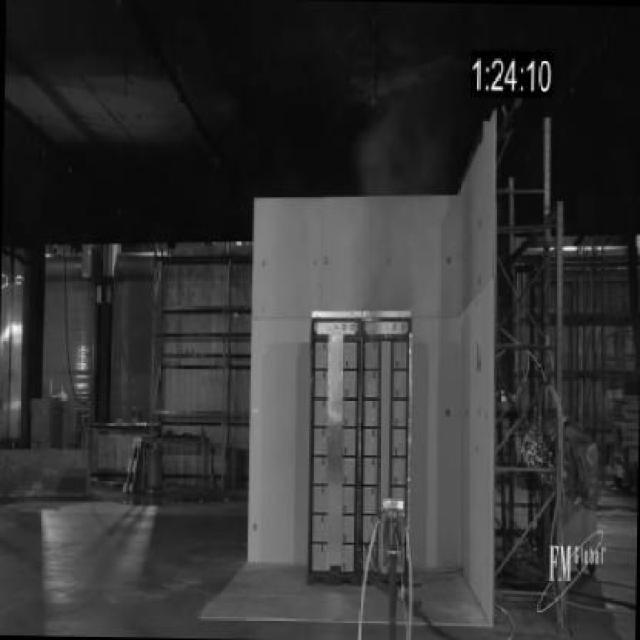fire: (346, 76, 446, 295)
